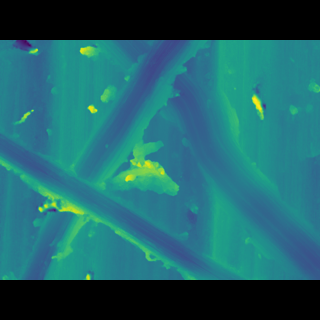Loch: (93, 68, 320, 249), (16, 70, 212, 250), (0, 137, 250, 252)
